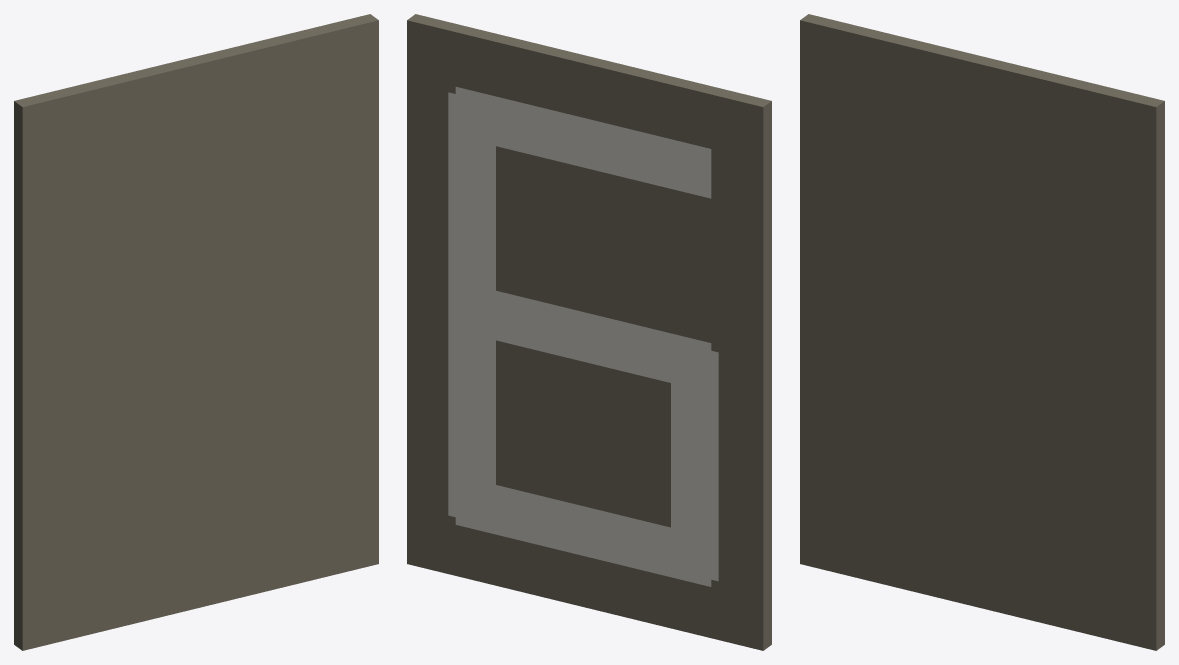
The model's file is stair_digit_6.glb.
The picture shows the model from 3 angles, left to right: view 1: azimuth 30°, elevation 25°; view 2: azimuth 150°, elevation 25°; view 3: azimuth 330°, elevation 25°; orthographic projection.
Visible parts, largest first — view 1: stair_digit_6; view 2: stair_digit_6; view 3: stair_digit_6.
Boxes of the visible parts, left/top/right/bottom form: stair_digit_6: left=14, top=14, right=378, bottom=650; stair_digit_6: left=407, top=14, right=771, bottom=650; stair_digit_6: left=800, top=14, right=1164, bottom=650.
Size of the model in its own units: 0.24 by 0.35 by 0.012.
2 materials, 2 textured.
